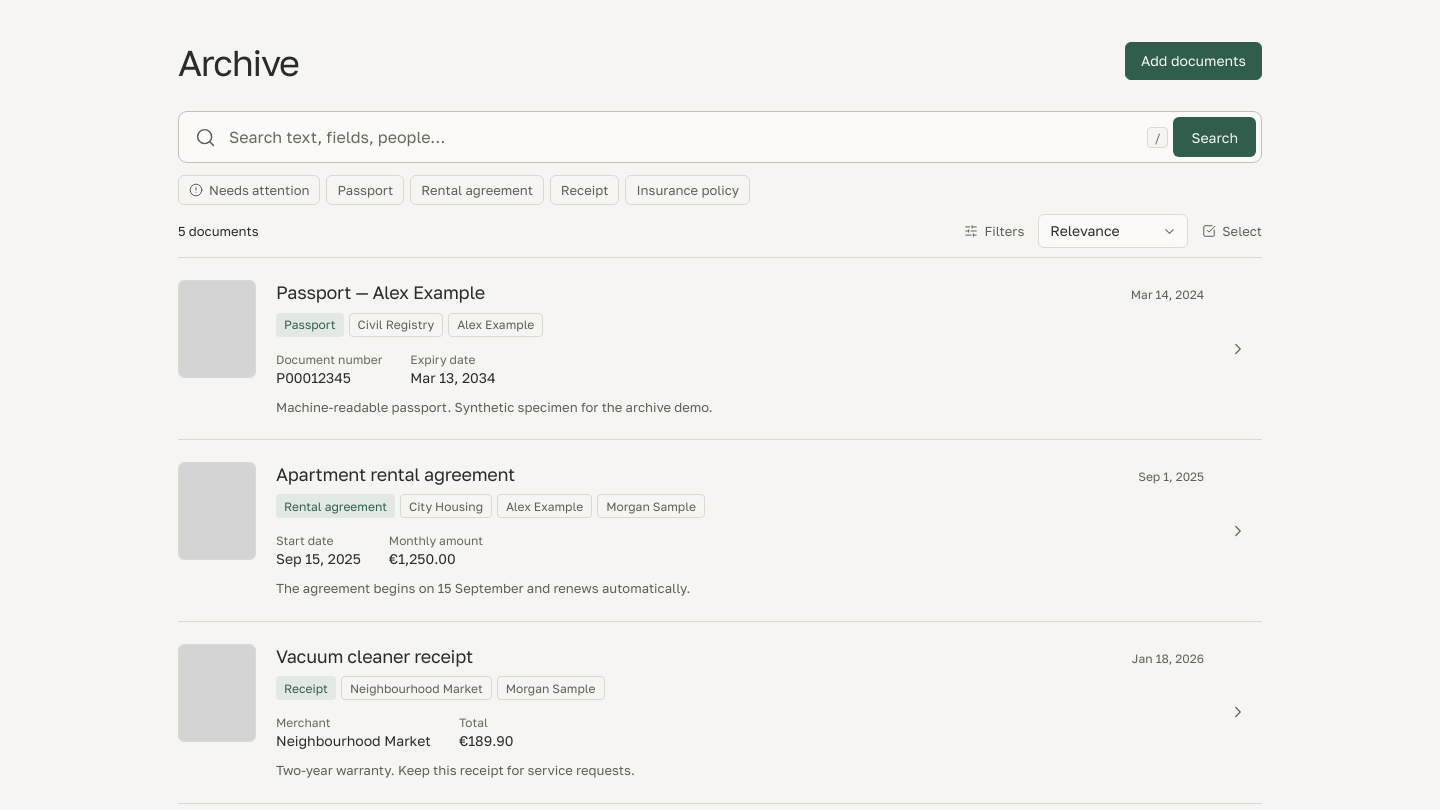
Test: ArchivePage touch › ticks the row instead of opening it while selecting
Click the button "Select" at (1232, 231), box [1202, 215, 1262, 247]
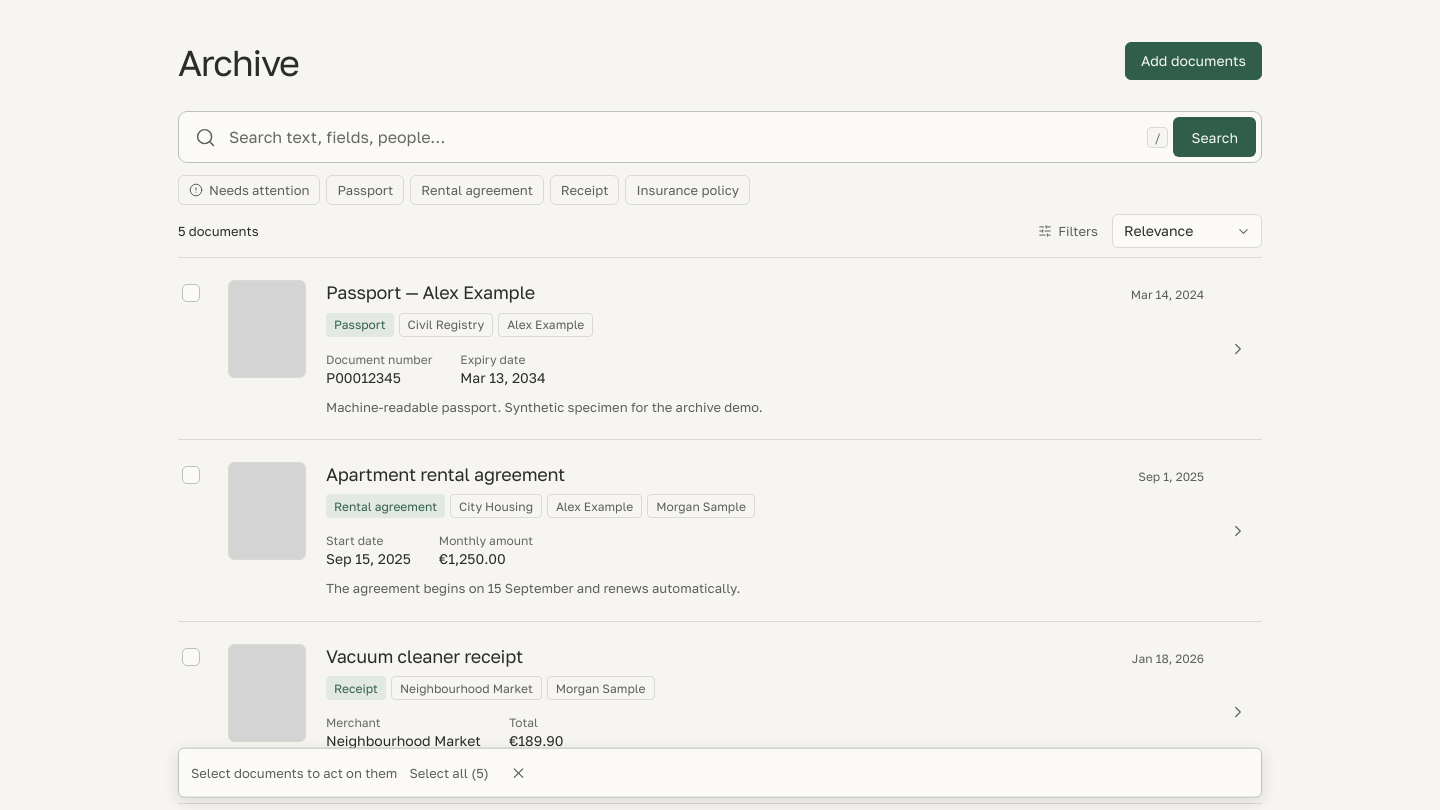
Click the element with class "result-body" that starts with "Passport — Alex Example" at (1167, 295), box [326, 280, 1204, 417]
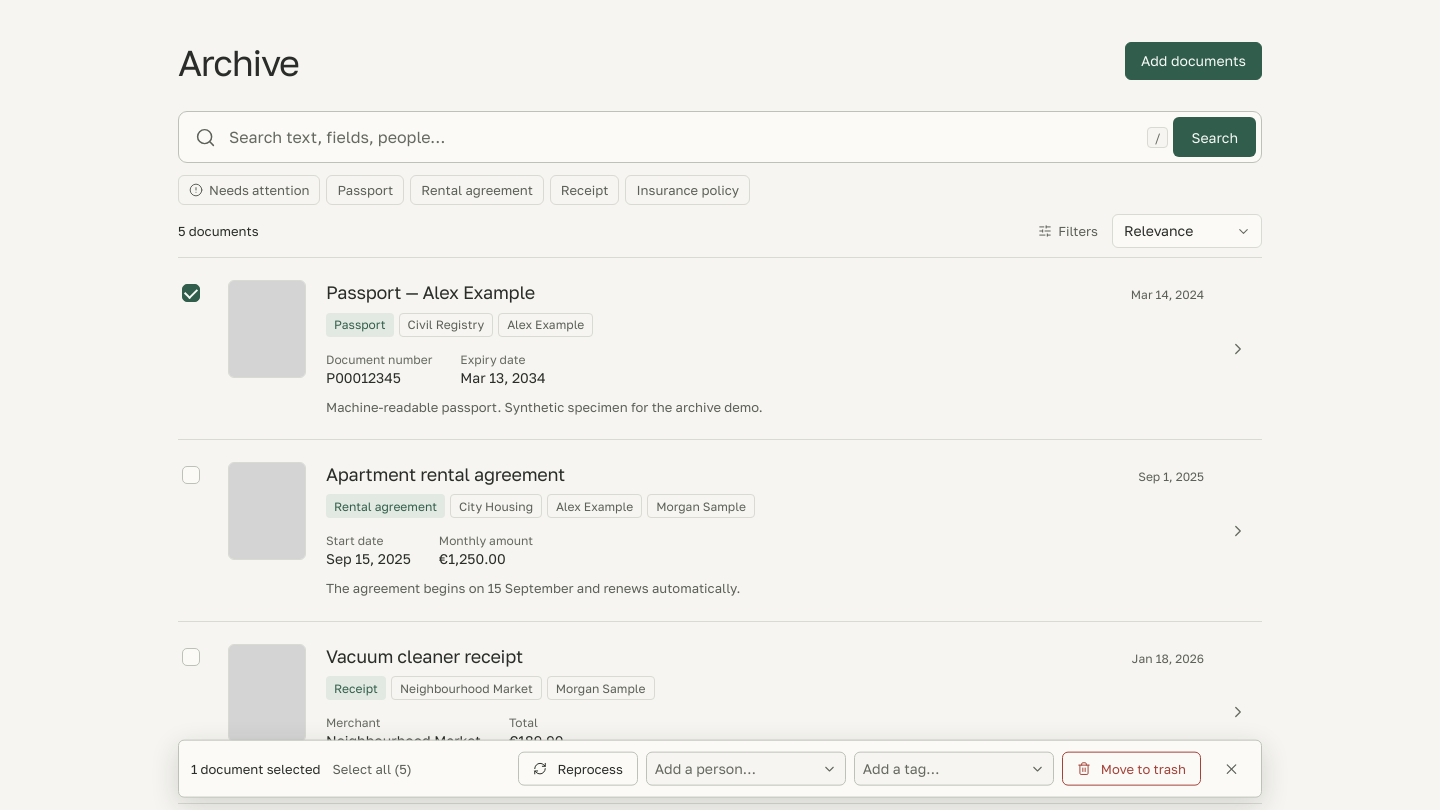
Expected: the checkbox named "Select “Passport — Alex Example”" is checked, [182, 284, 200, 302]
Click the text "P00012345" at (364, 377), box [326, 369, 401, 386]
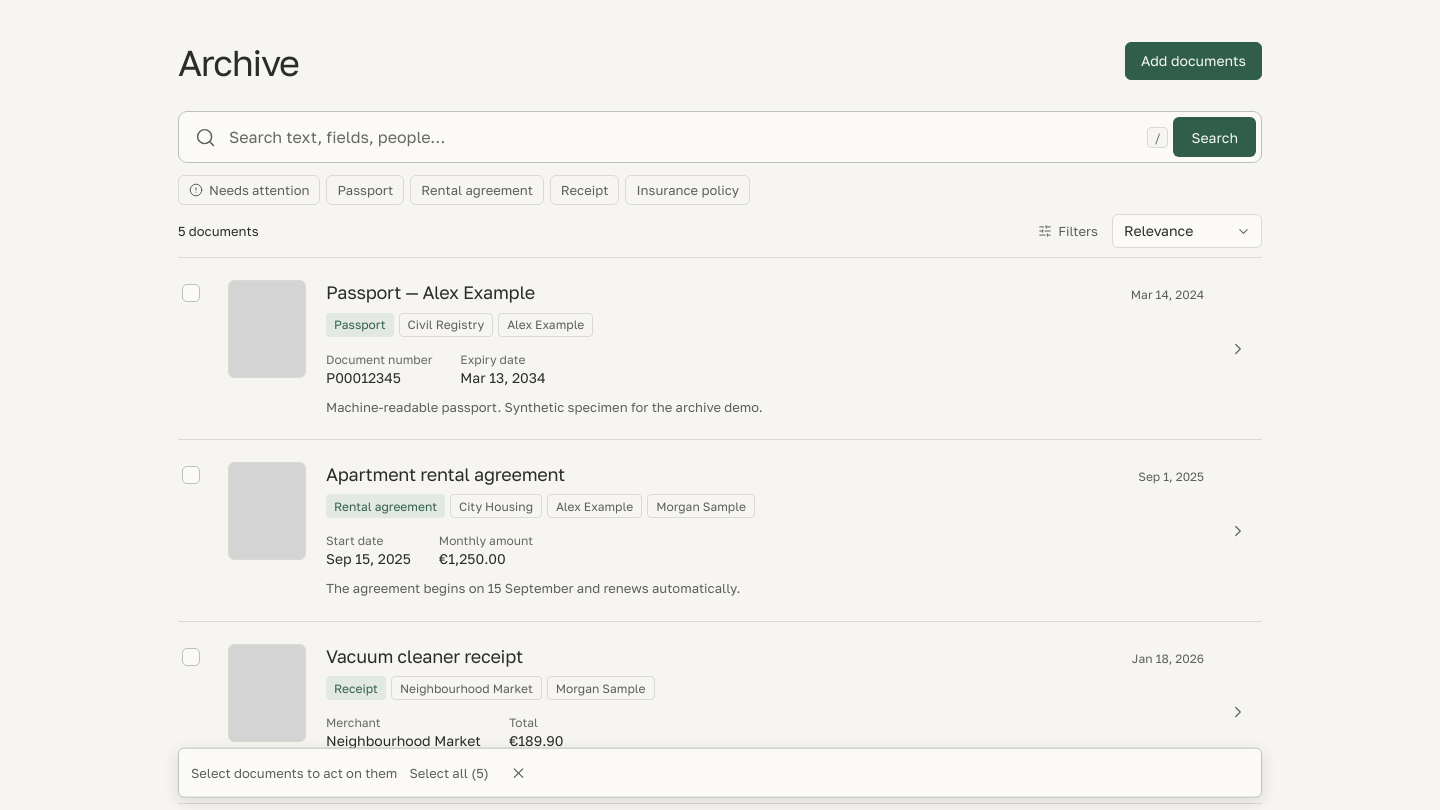
Expected: the checkbox named "Select “Passport — Alex Example”" is not checked, [182, 284, 200, 302]
